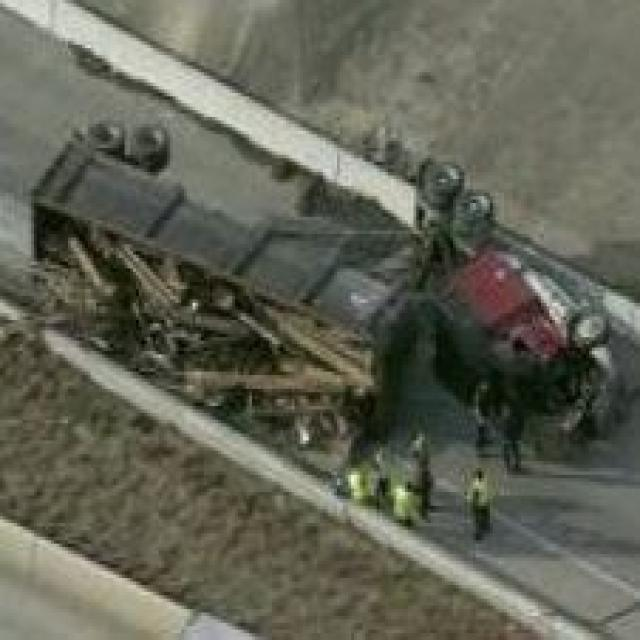traffic_incident: (31, 97, 595, 440)
